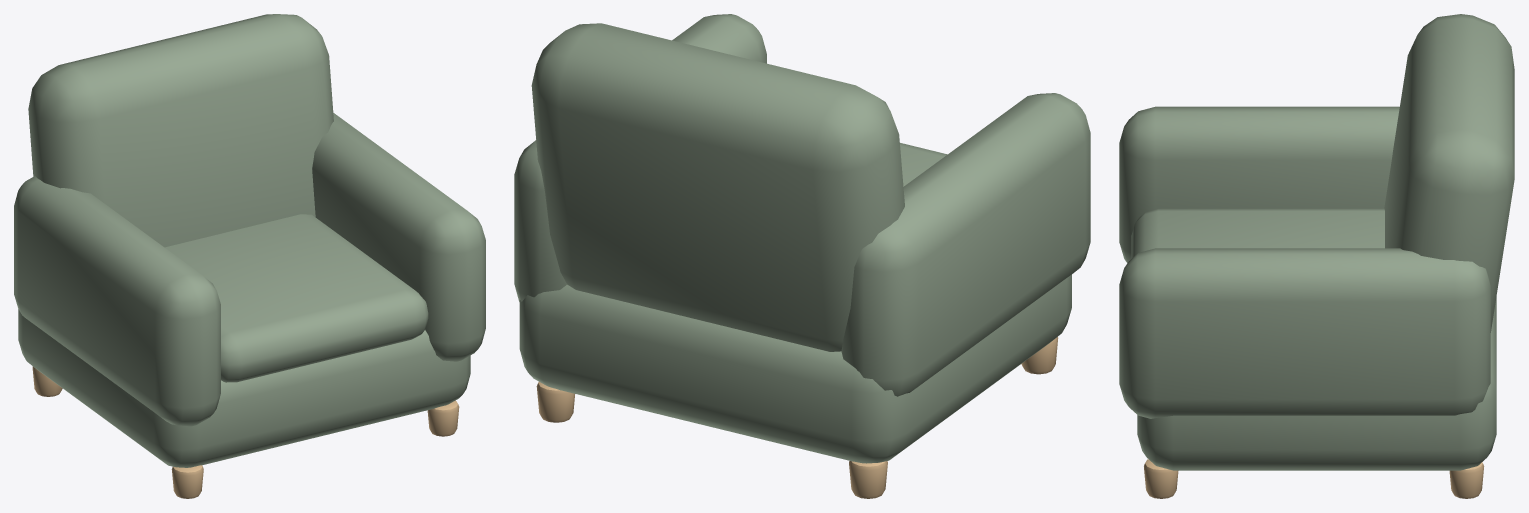
File: armchair.glb
The picture shows the model from 3 angles, left to right: view 1: azimuth 30°, elevation 25°; view 2: azimuth 150°, elevation 25°; view 3: azimuth 270°, elevation 25°; orthographic projection. The views are drawn at different scales.
Visible parts, largest first — view 1: fabric, wood; view 2: fabric, wood; view 3: fabric, wood.
Boxes of the visible parts, x1=… form: fabric: x1=14, y1=14, x2=485, y2=467; wood: x1=32, y1=366, x2=459, y2=498; fabric: x1=514, y1=14, x2=1090, y2=463; wood: x1=536, y1=337, x2=1058, y2=498; fabric: x1=1119, y1=14, x2=1514, y2=470; wood: x1=1144, y1=459, x2=1484, y2=498.
Bounding box in the file's own units: 0.69 × 0.6492 × 0.66.
